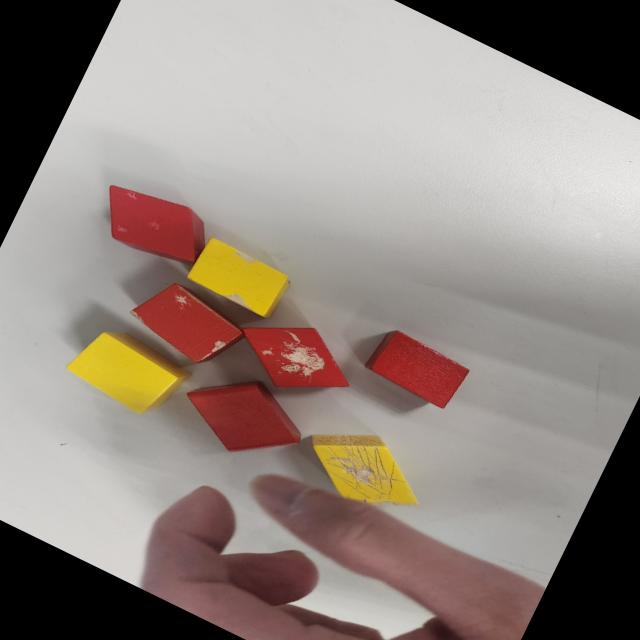broken: (291, 410, 440, 532), (226, 302, 366, 417), (120, 269, 253, 378), (89, 171, 217, 276), (184, 233, 295, 323)
red: (169, 354, 316, 478), (362, 324, 469, 410)
yellow: (60, 316, 190, 426)
